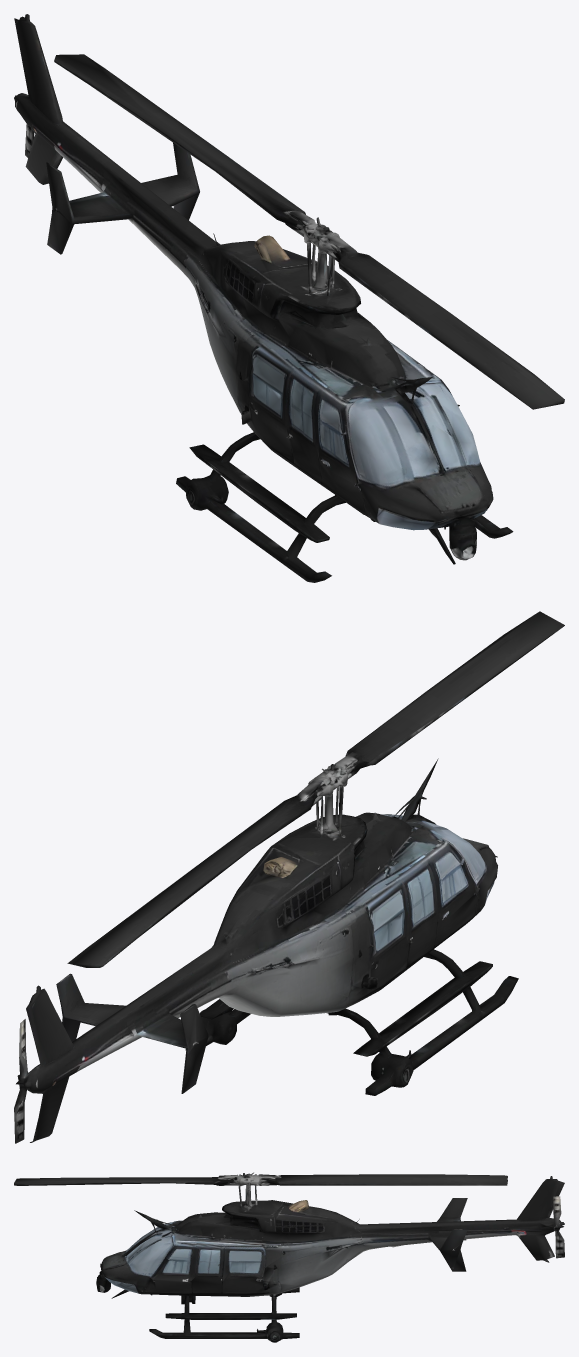
File: helicopter.glb
The picture shows the model from 3 angles, top to bottom: view 1: azimuth 30°, elevation 25°; view 2: azimuth 150°, elevation 25°; view 3: azimuth 270°, elevation 25°; orthographic projection. The views are drawn at different scales.
Parts seen in each view (by area): view 1: node_0; view 2: node_0; view 3: node_0.
Boxes of the visible parts, x1,y1,x2,y2 form: node_0: (14,14,564,582); node_0: (14,611,564,1143); node_0: (14,1172,564,1342).
Bounding box in the file's own units: 0.2642 × 0.3374 × 1.16.
1 material, 1 textured.
